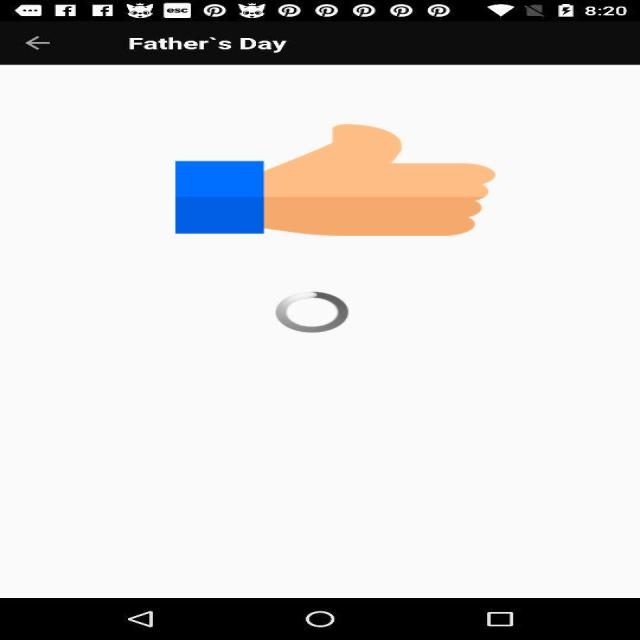privacy zuckering: (175, 121, 496, 239)
